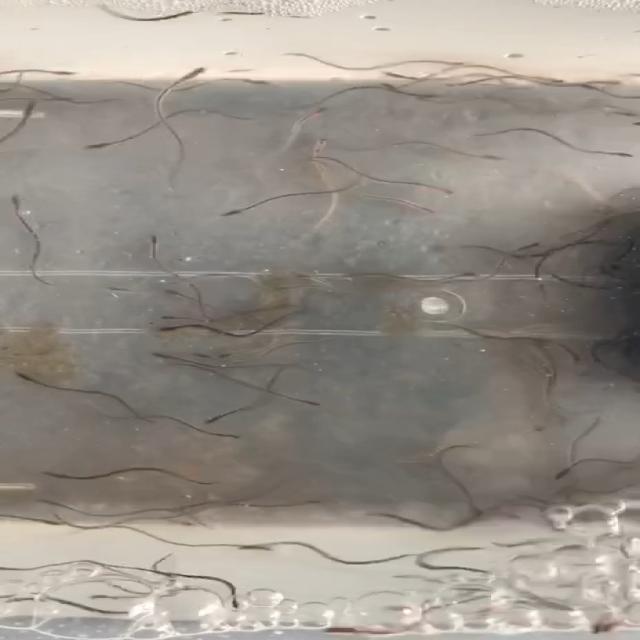active_glass_eel: (473, 153, 529, 186), (7, 97, 59, 126), (84, 138, 128, 164), (447, 258, 484, 288), (146, 323, 188, 348), (184, 54, 223, 80), (306, 91, 339, 121), (204, 589, 248, 610), (382, 82, 420, 105), (422, 181, 466, 200), (298, 136, 350, 152), (12, 364, 44, 390), (568, 353, 600, 379), (160, 280, 190, 306), (297, 393, 326, 419), (46, 92, 86, 109), (0, 193, 48, 207), (414, 209, 447, 228), (367, 507, 401, 525), (50, 68, 90, 83), (239, 74, 271, 92), (206, 411, 238, 429), (442, 57, 474, 74), (557, 466, 593, 480), (513, 236, 542, 253), (612, 144, 632, 166), (40, 461, 57, 485), (376, 69, 415, 79), (23, 496, 60, 506), (155, 309, 182, 321), (223, 200, 240, 218)
